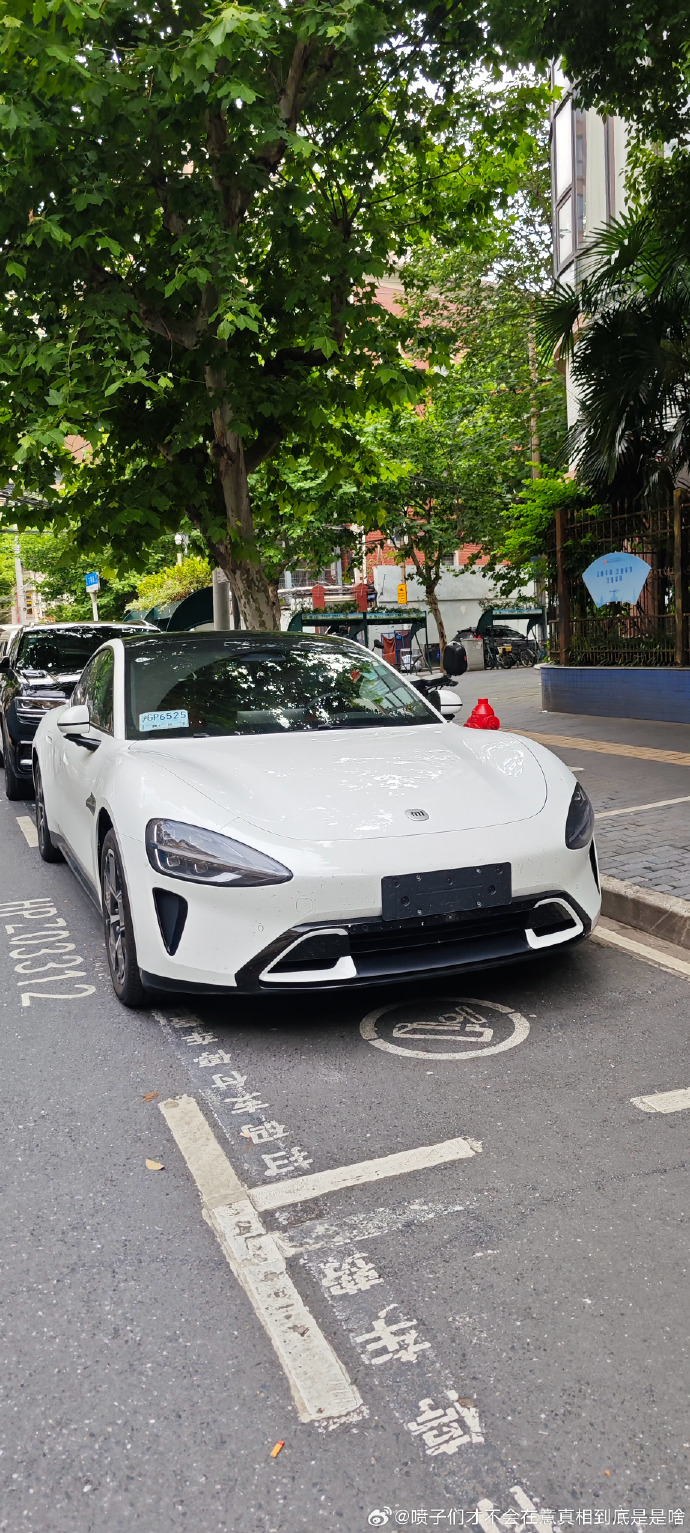su7: (18, 627, 612, 1022)
